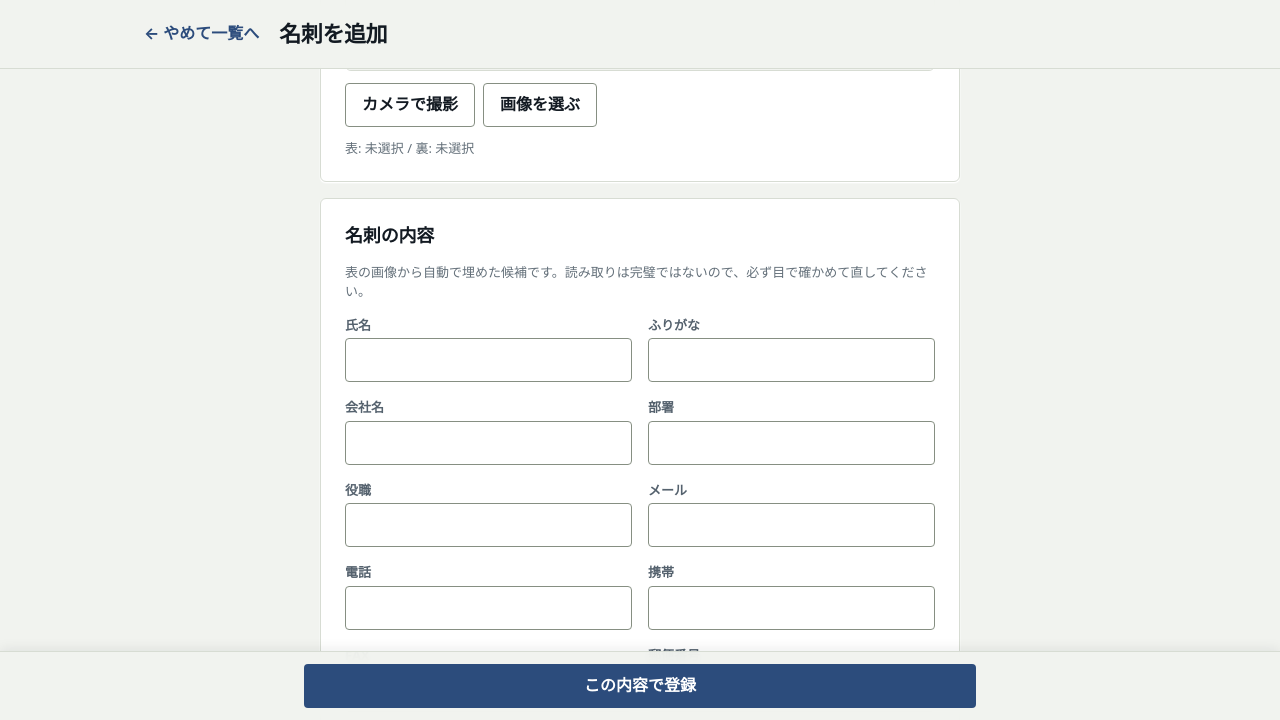
登録画面 / バリデーション › メール欄が形式不正なら保存できない
The width and height of the screenshot is (1280, 720).
(page scrolled)
Step 1. Type "鈴木 一郎" into the field labelled "氏名" → (488, 360), box [345,338,632,382]
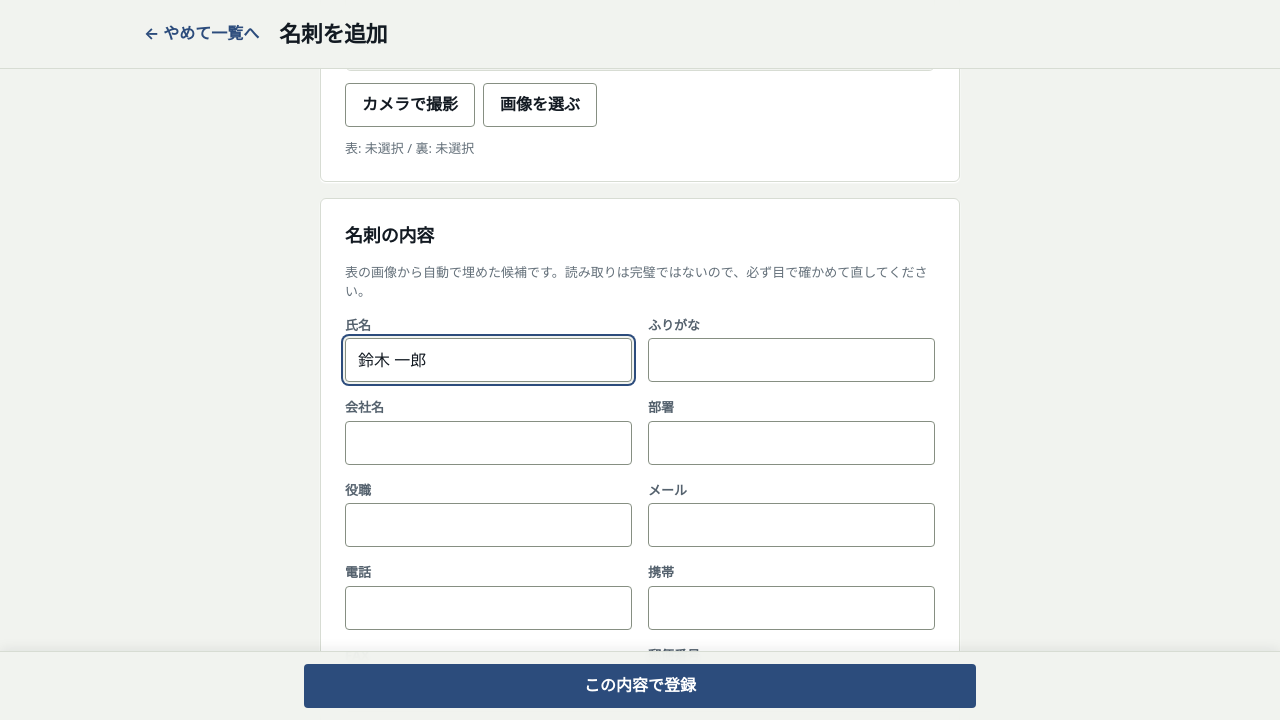
Step 2. Type "not-an-email" into the field labelled "メール" → (792, 525), box [648,503,935,547]
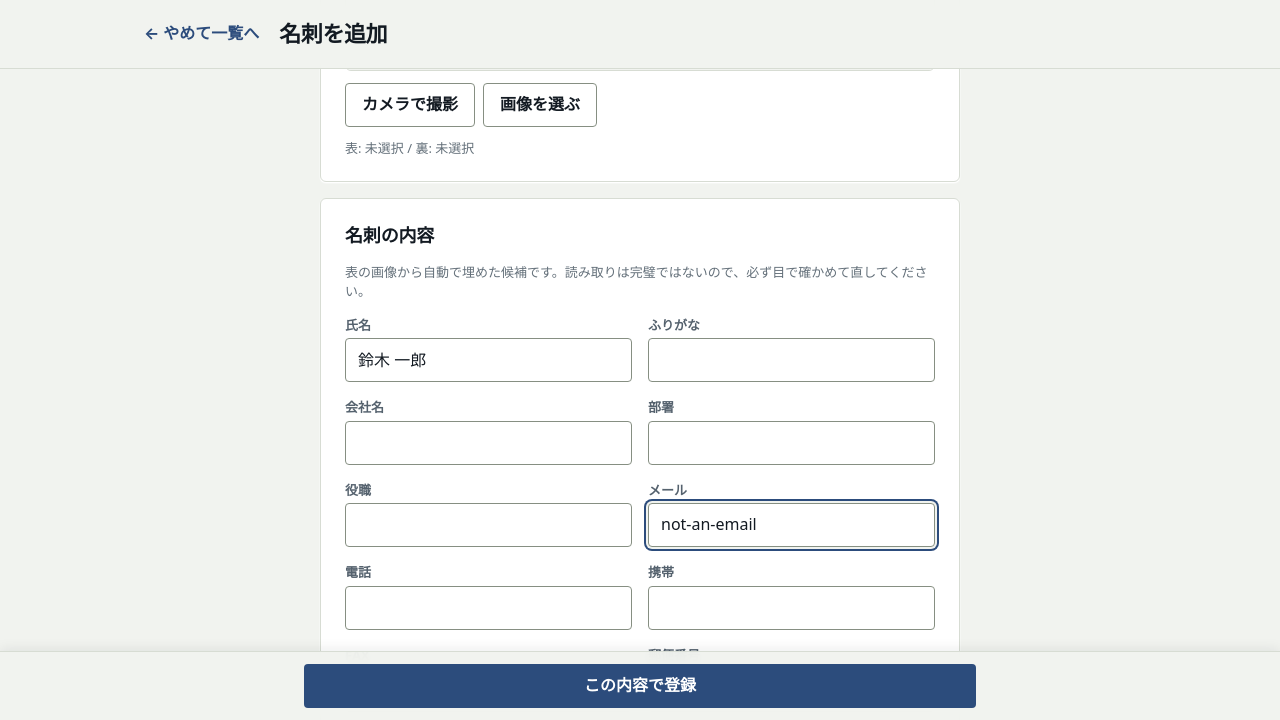
Step 3. Click the button "この内容で登録" → (640, 686), box [304,664,976,708]
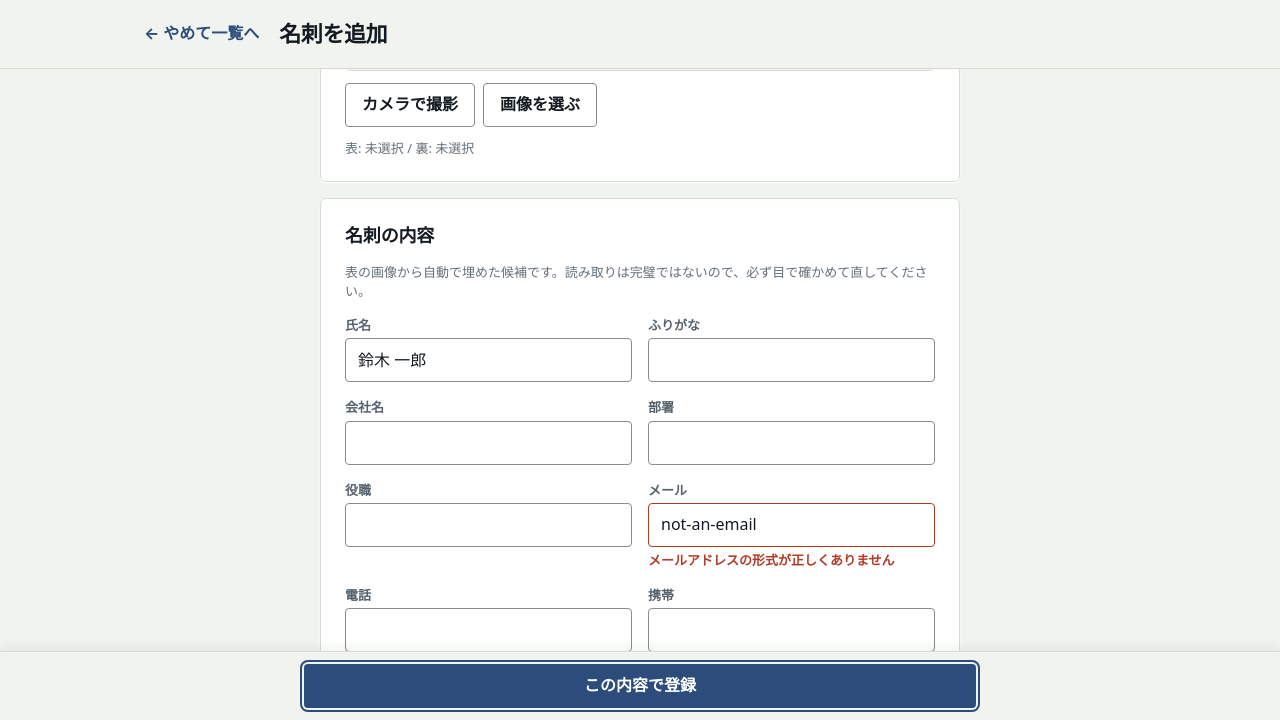
Result: the text "メールアドレスの形式が正しくありません" is shown at [648,551,935,570]
